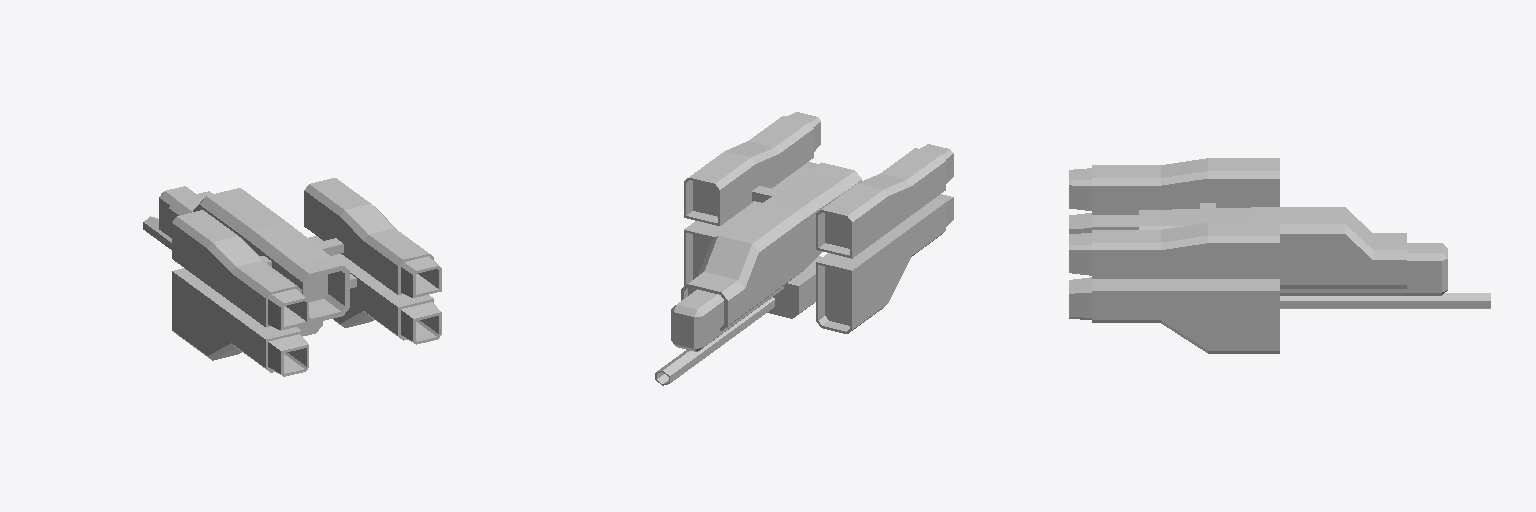
File: player_ship_type_01.obj
The picture shows the model from 3 angles: view 1: azimuth 30°, elevation 25°; view 2: azimuth 150°, elevation 25°; view 3: azimuth 270°, elevation 25°; orthographic projection.
Visible parts, largest first — view 1: Cube.001_Cube.020; view 2: Cube.001_Cube.020; view 3: Cube.001_Cube.020.
Part boxes in pixels (bbox=[...]): Cube.001_Cube.020: bbox=[143, 178, 441, 376]; Cube.001_Cube.020: bbox=[655, 112, 953, 385]; Cube.001_Cube.020: bbox=[1069, 158, 1490, 353].
Bounding box in the file's own units: 5.44 × 3.65 × 11.78.